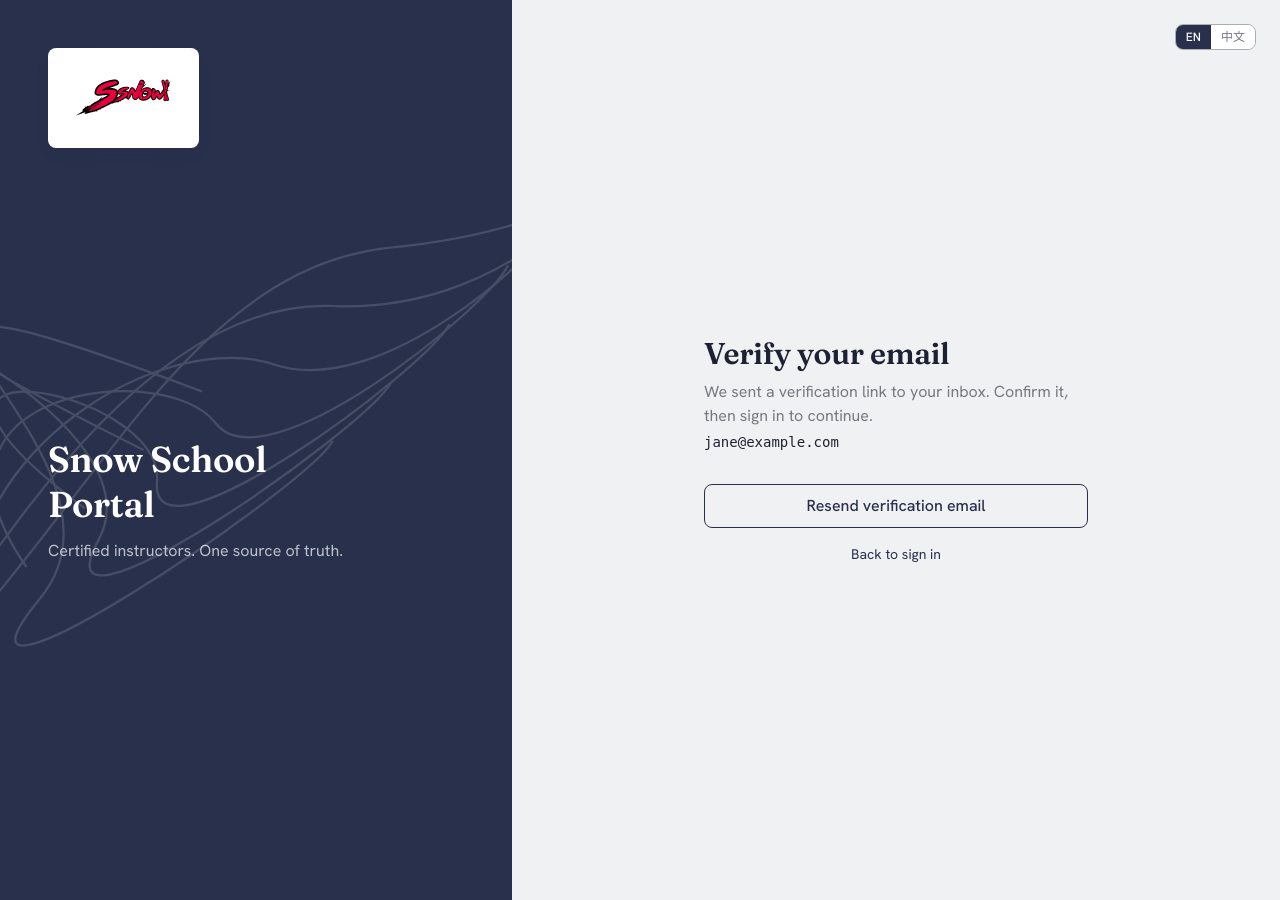
VerifyEmailPage › asks the user to wait without a countdown when Supabase gives no wait
Click the button named "Resend verification email" at (896, 506), box [704,484,1088,528]
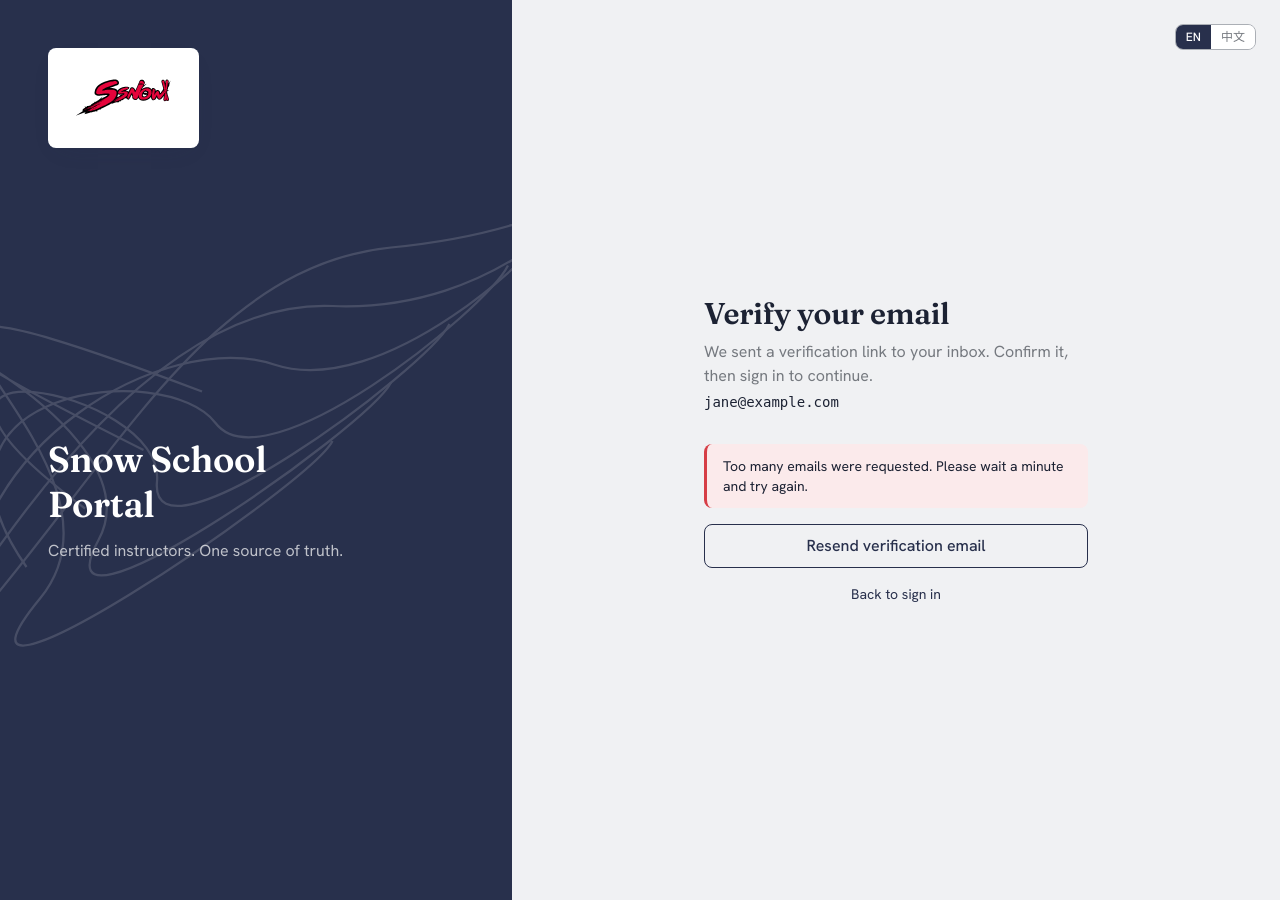
Expected: the button named "Resend verification email" is enabled, [704,524,1088,568]
Now the text "Too many emails were requested. Please wait a minute and try again." is shown, box [723,456,1072,496]
